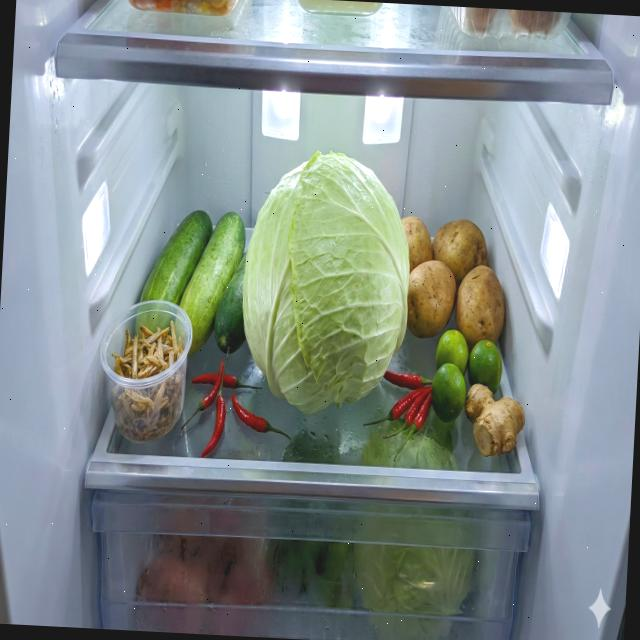anchovies: (106, 313, 188, 445)
cabbage: (236, 146, 416, 422)
chili: (180, 344, 296, 462), (360, 368, 432, 464)
cucumber: (134, 208, 252, 360)
ginger: (462, 383, 527, 459)
lime: (430, 328, 504, 427)
potato: (393, 214, 510, 352)
